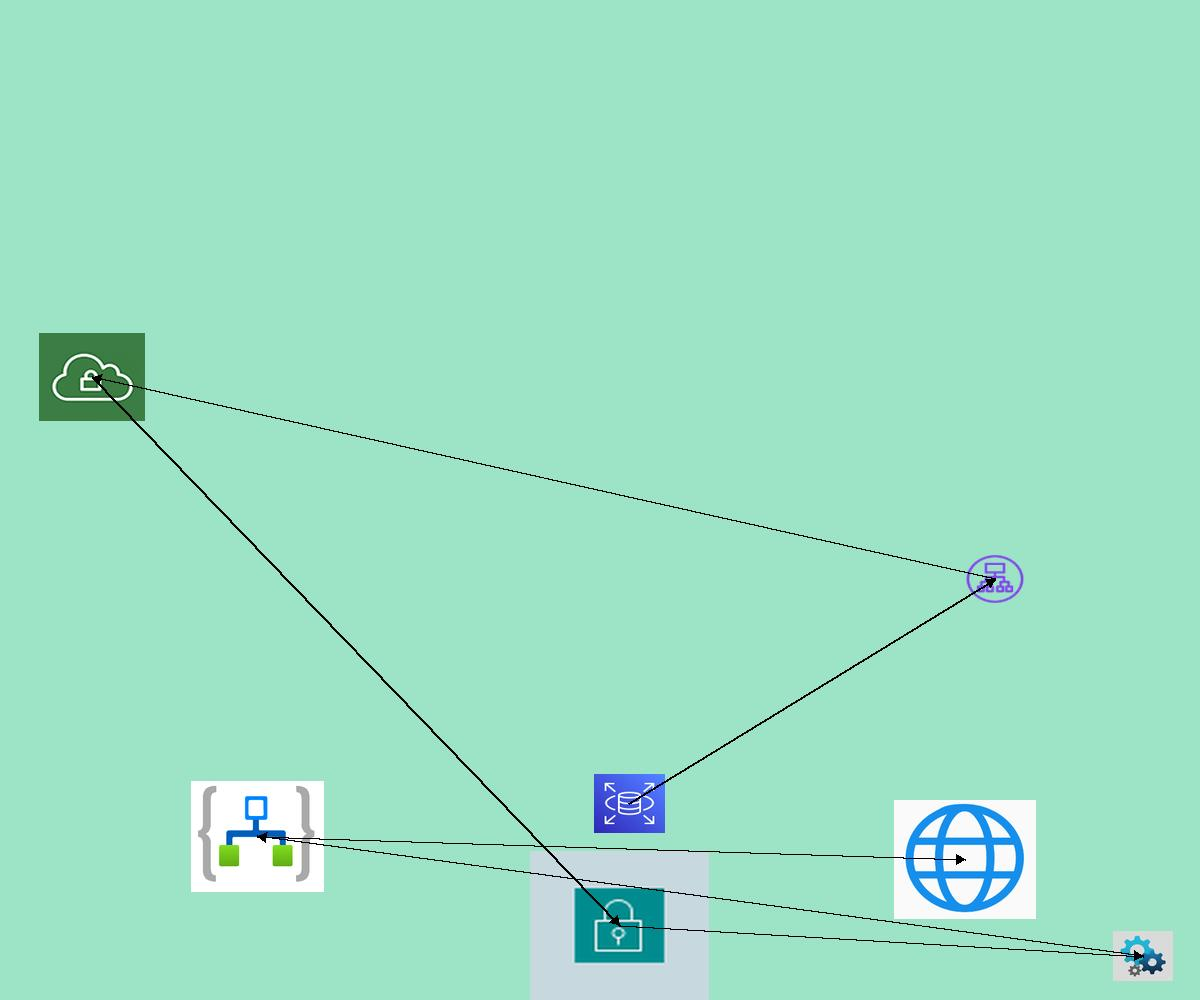AWS-Private-subnet: (530, 851, 709, 1000)
AWS-Private_vpc: (39, 333, 145, 421)
AWS-RDS: (594, 774, 665, 833)
AWS-Res_Elastic-Load-Balancing_Application-Load-Balancer: (964, 553, 1026, 605)
Azure_api: (1113, 931, 1173, 981)
Azure_http: (894, 800, 1036, 919)
Azure_integration-204-Logic-Apps: (191, 781, 324, 892)
